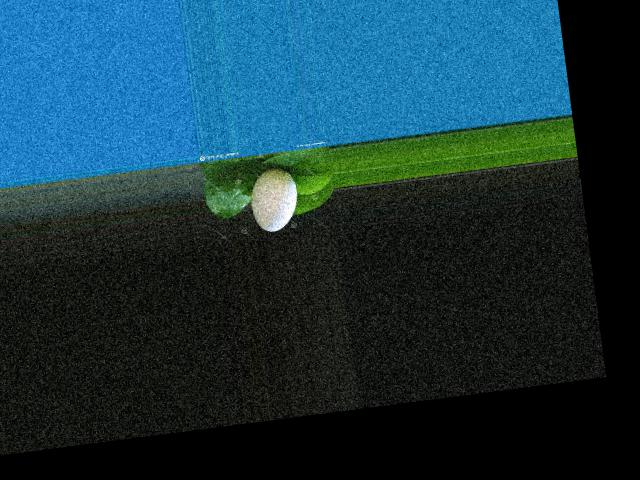egg: (247, 165, 302, 233)
